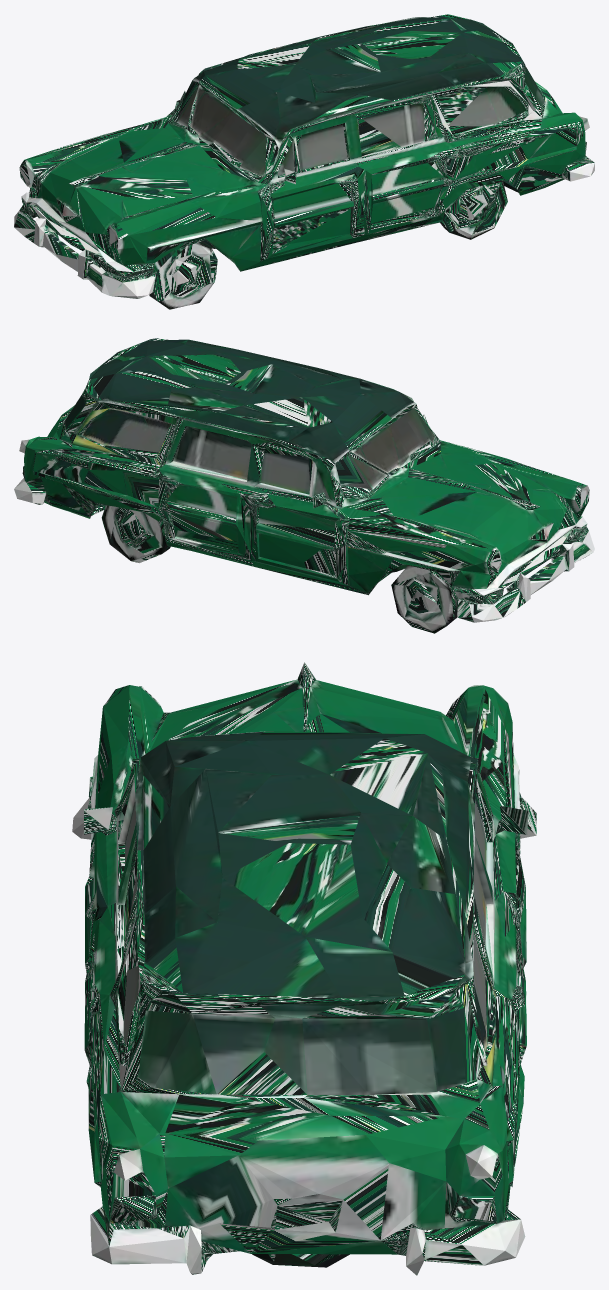
Rendered from car_sedan_3.glb.
The picture shows the model from 3 angles, top to bottom: view 1: azimuth 30°, elevation 25°; view 2: azimuth 150°, elevation 25°; view 3: azimuth 270°, elevation 25°; orthographic projection. The views are drawn at different scales.
Parts seen in each view (by area): view 1: normalize; view 2: normalize; view 3: normalize.
Boxes of the visible parts, x1=… form: normalize: x1=14, y1=14, x2=594, y2=309; normalize: x1=14, y1=338, x2=594, y2=633; normalize: x1=72, y1=662, x2=536, y2=1275.
Size of the model in its own units: 1 by 0.3256 by 0.4108.
1 material, 1 textured.
